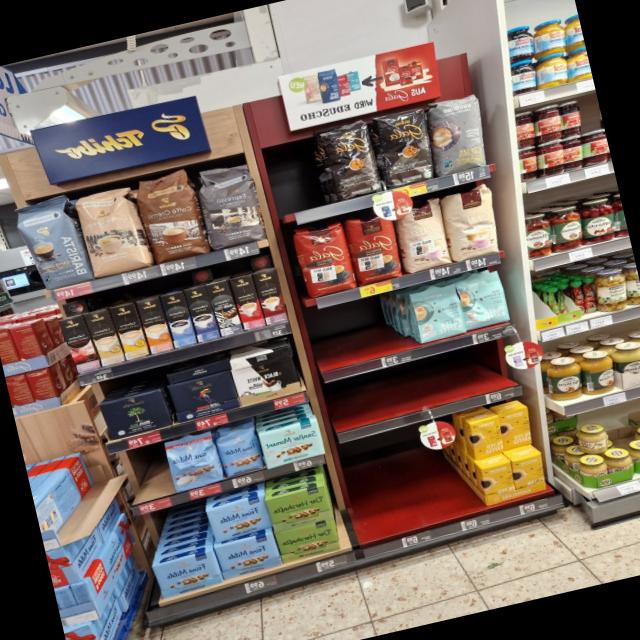BM Gemahlen: (97, 387, 173, 440)
BW Gemahlen: (230, 354, 301, 408)
Barista CC: (6, 190, 94, 293)
CC Mild: (74, 183, 152, 280)
CC Vollmundig 36 Pads: (130, 165, 212, 268)
Empty Shelf: (124, 445, 173, 502)
Espresso M Art: (191, 158, 269, 255)
FM 36 Pads: (162, 428, 226, 495)
FM Bohne: (214, 419, 265, 477)
FM Gemahlen: (150, 548, 223, 600), (204, 493, 272, 544), (212, 531, 282, 580)
Herzhatfe Mundig: (263, 484, 332, 532), (273, 516, 340, 563)
LG Gemahlen: (166, 368, 241, 423)
SM Gemahlen: (256, 415, 326, 471)
Simo CCMild bigpack: (108, 300, 150, 361)
Simo CCVollmundig bigpack: (134, 294, 174, 355)
Simo Decaff: (81, 306, 126, 367), (56, 313, 101, 374)
Simo Es Elegant: (228, 273, 266, 332)
Simo Es Kraft: (251, 267, 289, 326)
Simo Kaffee BW: (204, 278, 244, 338)
Simo Kaffee Kraft: (183, 284, 221, 343)
Simo Kaffee Mild: (159, 289, 198, 349)
